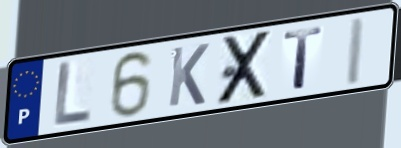6: (107, 48, 156, 120)
I: (342, 14, 369, 89)
K: (166, 41, 212, 110)
L: (51, 59, 93, 128)
T: (282, 24, 325, 92)
X: (214, 27, 275, 108)
